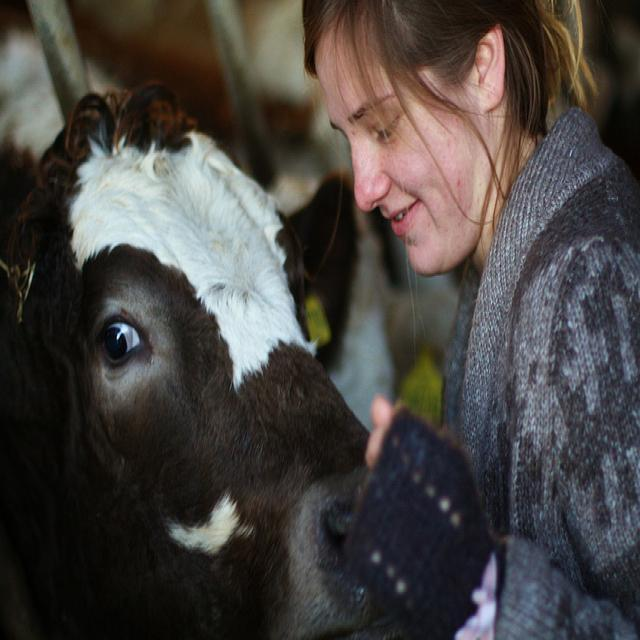cow: (0, 75, 395, 628)
